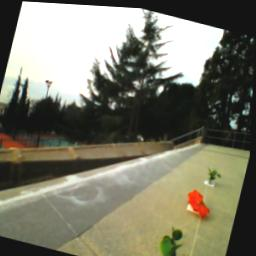herb: (155, 223, 193, 256), (207, 165, 225, 184)
wild: (185, 186, 218, 220)
